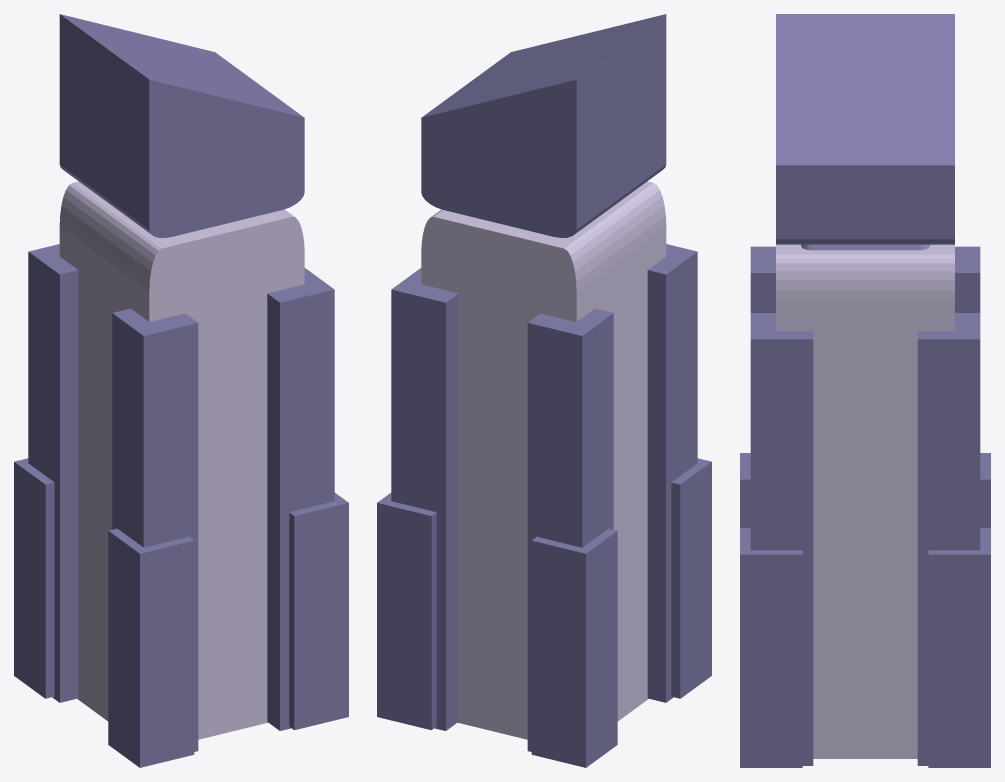
The model's file is Building3.fbx.
3 views of the same model, side by side, from view 1: azimuth 30°, elevation 25°; view 2: azimuth 150°, elevation 25°; view 3: azimuth 270°, elevation 25° (orthographic).
Visible parts, largest first — view 1: Cube.001, Cube, Cube.010, Cube.007, Cube.014, Cube.009, Cube.011, Cube.013; view 2: Cube.001, Cube, Cube.009, Cube.008, Cube.013, Cube.010, Cube.012, Cube.014; view 3: Cube.001, Cube, Cube.007, Cube.008, Cube.011, Cube.012, Cube.009, Cube.010, Cube.002, Cube.013, Cube.014.
Boxes of the visible parts, x1,y1,x2,y2 form: Cube.001: (59, 181, 304, 739); Cube: (59, 14, 304, 237); Cube.010: (112, 308, 198, 751); Cube.007: (267, 268, 334, 730); Cube.014: (108, 528, 194, 767); Cube.009: (28, 244, 78, 702); Cube.011: (289, 492, 348, 730); Cube.013: (14, 458, 54, 698); Cube.001: (421, 181, 666, 739); Cube: (421, 14, 666, 237); Cube.009: (527, 308, 613, 751); Cube.008: (391, 268, 458, 730); Cube.013: (531, 528, 617, 767); Cube.010: (647, 244, 697, 702); Cube.012: (377, 492, 436, 730); Cube.014: (671, 458, 711, 698); Cube.001: (776, 244, 954, 758); Cube: (776, 14, 954, 244); Cube.007: (750, 313, 813, 765); Cube.008: (917, 313, 980, 765); Cube.011: (740, 528, 802, 767); Cube.012: (928, 528, 990, 767); Cube.009: (955, 246, 980, 312); Cube.010: (750, 246, 775, 312); Cube.002: (801, 244, 929, 250); Cube.013: (980, 453, 990, 527); Cube.014: (740, 453, 750, 527).
Bounding box in the file's own units: 2300 × 7067 × 2400.
